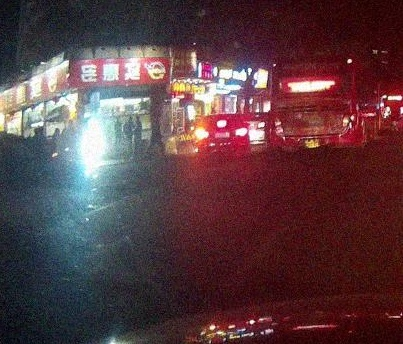L_light: (272, 107, 283, 133), (198, 132, 208, 138)
R_light: (348, 102, 358, 128), (235, 129, 247, 136)
T_light: (302, 87, 321, 92), (217, 122, 226, 126)
night-left: (197, 113, 248, 160)
night-no: (269, 51, 359, 157)
